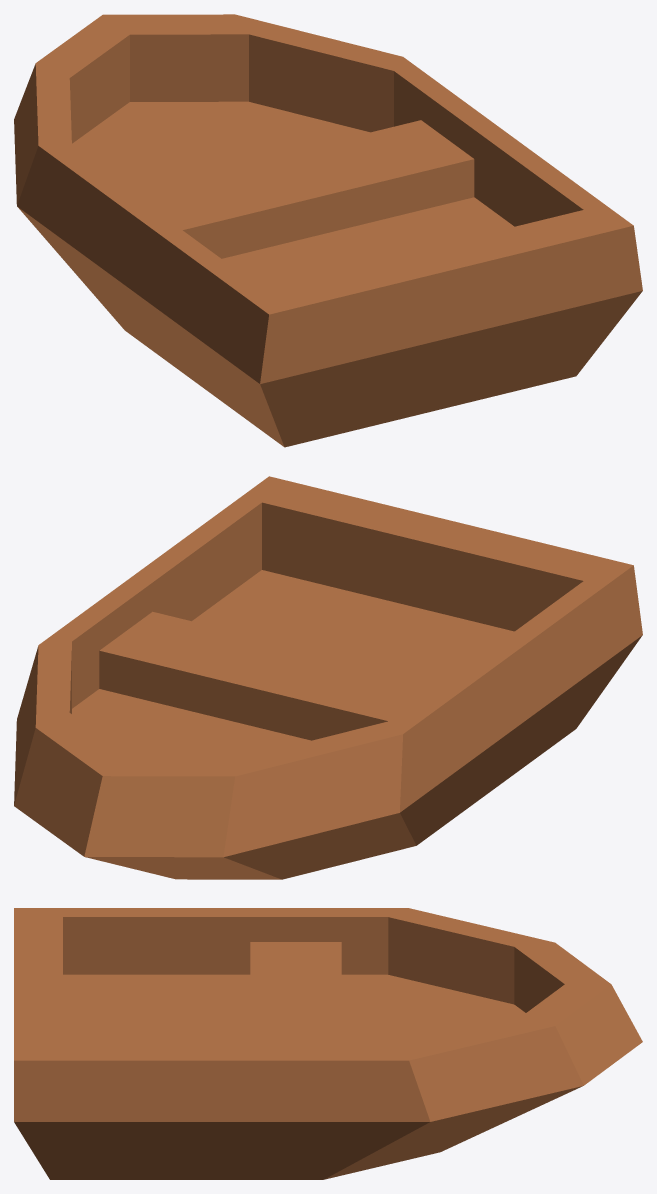
File: boat_small.glb
The picture shows the model from 3 angles, top to bottom: view 1: azimuth 30°, elevation 25°; view 2: azimuth 150°, elevation 25°; view 3: azimuth 270°, elevation 25°; orthographic projection. The views are drawn at different scales.
Parts seen in each view (by area): view 1: boat_small; view 2: boat_small; view 3: boat_small.
Boxes of the visible parts, bbox=[...] form: boat_small: bbox=[14, 14, 642, 447]; boat_small: bbox=[14, 476, 642, 879]; boat_small: bbox=[14, 908, 642, 1179].
Bounding box in the file's own units: 8.93 × 3.5 × 14.83.
